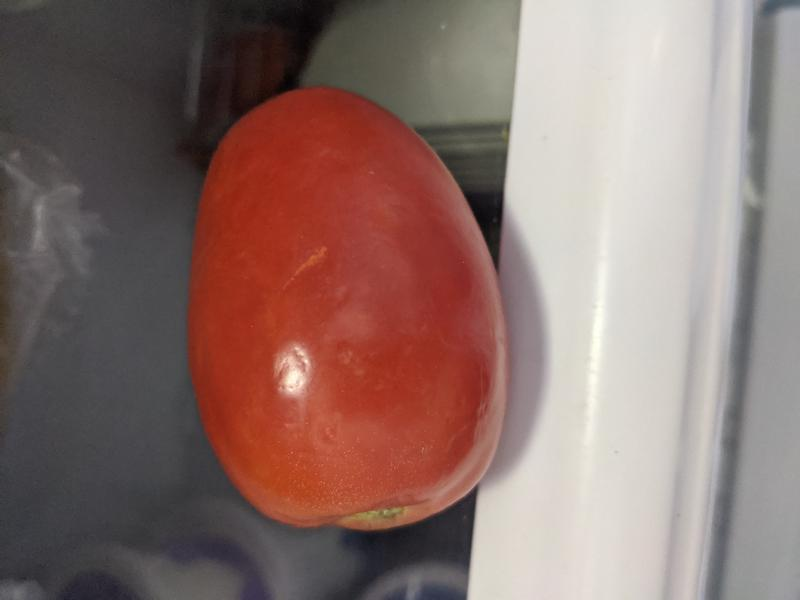tomato: (186, 87, 511, 532)
